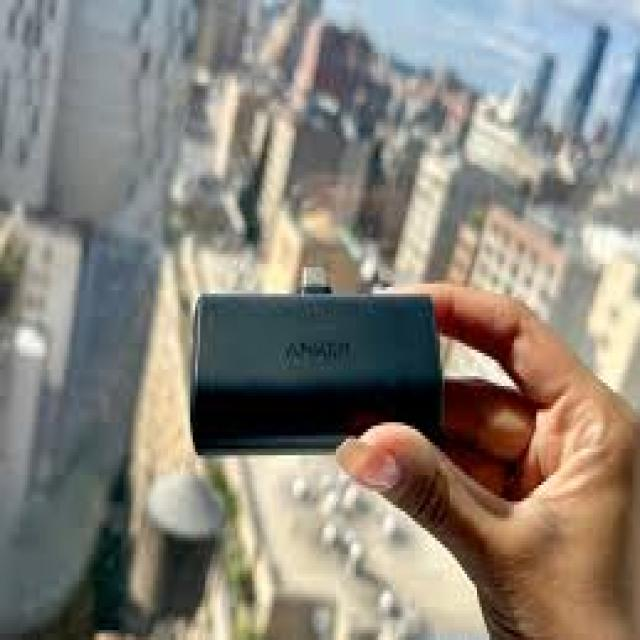portable-charger: (190, 263, 447, 457)
